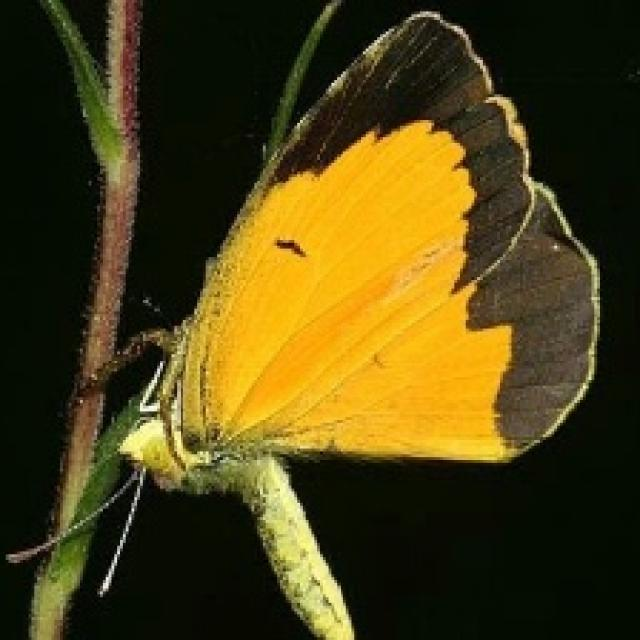butterfly: (3, 6, 600, 637)
